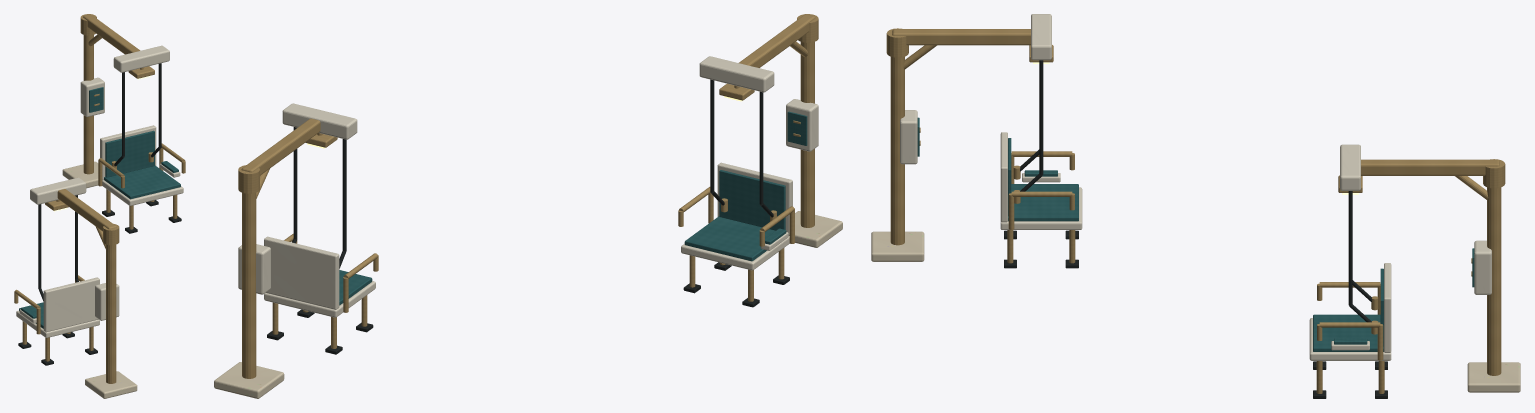
The model's file is Group6ThermalSupport_02_r002.glb.
The picture shows the model from 3 angles, left to right: view 1: azimuth 30°, elevation 25°; view 2: azimuth 150°, elevation 25°; view 3: azimuth 270°, elevation 25°; orthographic projection. The views are drawn at different scales.
Visible parts, largest first — view 1: G6_SUPPORT_02__station_1_seat_back_load, G6_SUPPORT_02__station_0_seat_back_pad, G6_SUPPORT_02__station_1_mast_load_column, G6_SUPPORT_02__station_0_seat_pad, G6_SUPPORT_02__station_0_mast_load_column, G6_SUPPORT_02__station_0_parked_head, G6_SUPPORT_02__station_1_mast_floor_anchor, G6_SUPPORT_02__station_1_parked_head, G6_SUPPORT_02__station_1_parked_lift_arm, G6_SUPPORT_02__station_0_parked_lift_arm, G6_SUPPORT_02__station_0_seat_load_pan, G6_SUPPORT_02__station_0_control_shroud (+14 smaller); view 2: G6_SUPPORT_02__station_0_seat_back_load, G6_SUPPORT_02__station_1_seat_back_pad, G6_SUPPORT_02__station_0_mast_load_column, G6_SUPPORT_02__station_1_seat_pad, G6_SUPPORT_02__station_1_mast_load_column, G6_SUPPORT_02__station_1_parked_head, G6_SUPPORT_02__station_0_parked_head, G6_SUPPORT_02__station_0_mast_floor_anchor, G6_SUPPORT_02__station_0_parked_lift_arm, G6_SUPPORT_02__station_1_parked_lift_arm, G6_SUPPORT_02__station_1_mast_floor_anchor, G6_SUPPORT_02__station_1_seat_load_pan (+9 smaller); view 3: G6_SUPPORT_02__station_1_mast_load_column, G6_SUPPORT_02__station_0_mast_load_column, G6_SUPPORT_02__station_0_parked_lift_arm, G6_SUPPORT_02__station_1_parked_lift_arm, G6_SUPPORT_02__station_1_seat_pad, G6_SUPPORT_02__station_0_seat_pad, G6_SUPPORT_02__station_0_mast_floor_anchor, G6_SUPPORT_02__station_1_mast_floor_anchor, G6_SUPPORT_02__station_1_parked_head, G6_SUPPORT_02__station_0_parked_head, G6_SUPPORT_02__station_1_control_shroud, G6_SUPPORT_02__station_0_control_shroud (+6 smaller).
Boxes of the visible parts, x1,y1,x2,y2 form: G6_SUPPORT_02__station_1_seat_back_load: (43,277,99,332); G6_SUPPORT_02__station_0_seat_back_pad: (105,130,154,177); G6_SUPPORT_02__station_1_mast_load_column: (106,244,116,383); G6_SUPPORT_02__station_0_seat_pad: (104,165,180,199); G6_SUPPORT_02__station_0_mast_load_column: (83,35,93,174); G6_SUPPORT_02__station_0_parked_head: (113,45,169,72); G6_SUPPORT_02__station_1_mast_floor_anchor: (85,371,137,398); G6_SUPPORT_02__station_1_parked_head: (30,177,86,204); G6_SUPPORT_02__station_1_parked_lift_arm: (57,189,116,231); G6_SUPPORT_02__station_0_parked_lift_arm: (83,14,140,54); G6_SUPPORT_02__station_0_seat_load_pan: (102,180,183,205); G6_SUPPORT_02__station_0_control_shroud: (80,77,104,116); G6_SUPPORT_02__station_0_seat_back_load: (264,236,339,309); G6_SUPPORT_02__station_1_seat_back_pad: (719,170,785,230); G6_SUPPORT_02__station_0_mast_load_column: (242,192,256,378); G6_SUPPORT_02__station_1_seat_pad: (684,216,786,261); G6_SUPPORT_02__station_1_mast_load_column: (800,42,814,227); G6_SUPPORT_02__station_1_parked_head: (699,56,774,92); G6_SUPPORT_02__station_0_parked_head: (282,103,357,139); G6_SUPPORT_02__station_0_mast_floor_anchor: (214,362,284,398); G6_SUPPORT_02__station_0_parked_lift_arm: (241,118,320,175); G6_SUPPORT_02__station_1_parked_lift_arm: (739,14,815,67); G6_SUPPORT_02__station_1_mast_floor_anchor: (795,211,842,247); G6_SUPPORT_02__station_1_seat_load_pan: (681,236,789,270); G6_SUPPORT_02__station_1_mast_load_column: (890,56,904,245); G6_SUPPORT_02__station_0_mast_load_column: (1487,187,1501,375); G6_SUPPORT_02__station_0_parked_lift_arm: (1361,159,1499,175); G6_SUPPORT_02__station_1_parked_lift_arm: (892,29,1030,45); G6_SUPPORT_02__station_1_seat_pad: (1008,184,1078,221); G6_SUPPORT_02__station_0_seat_pad: (1313,314,1383,351); G6_SUPPORT_02__station_0_mast_floor_anchor: (1467,362,1520,392); G6_SUPPORT_02__station_1_mast_floor_anchor: (871,231,924,261); G6_SUPPORT_02__station_1_parked_head: (1031,14,1051,60); G6_SUPPORT_02__station_0_parked_head: (1340,144,1360,190); G6_SUPPORT_02__station_1_control_shroud: (900,110,917,164); G6_SUPPORT_02__station_0_control_shroud: (1474,240,1491,294).
Size of the model in its own units: 3.71 by 2.22 by 5.88.
6 materials, 5 textured.
